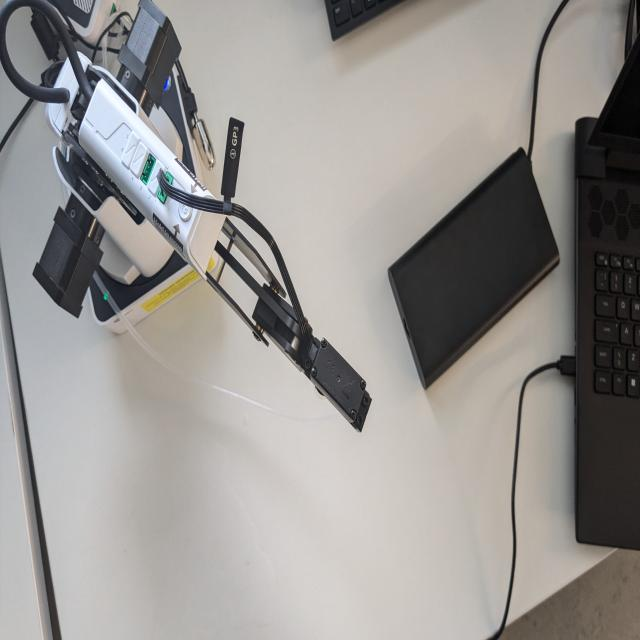Robot-end-effector-HF8z: (305, 334, 373, 435)
